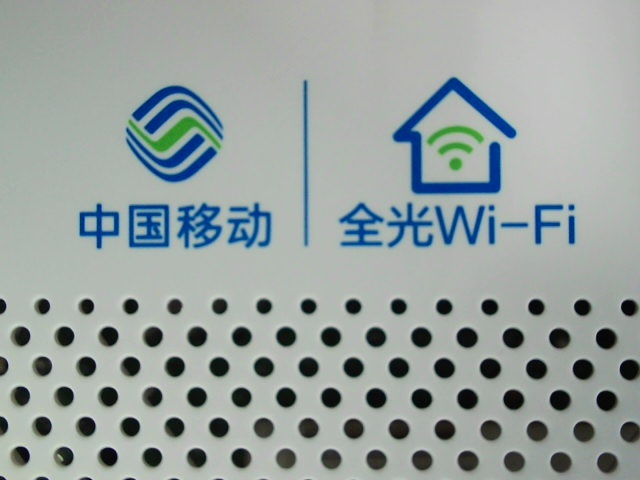BJ_QuanGuangMobile: (66, 75, 597, 262)
